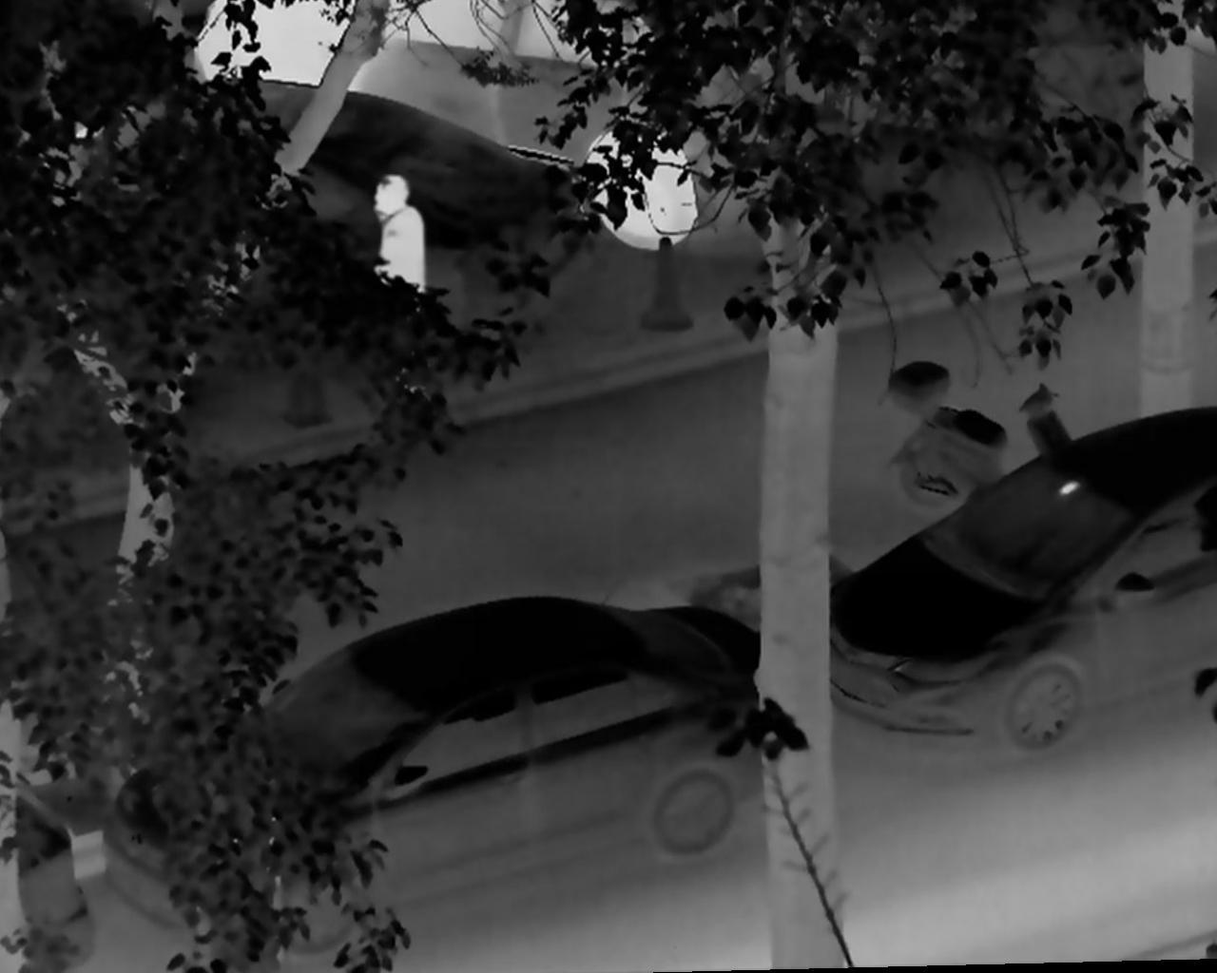person: (368, 173, 435, 404)
